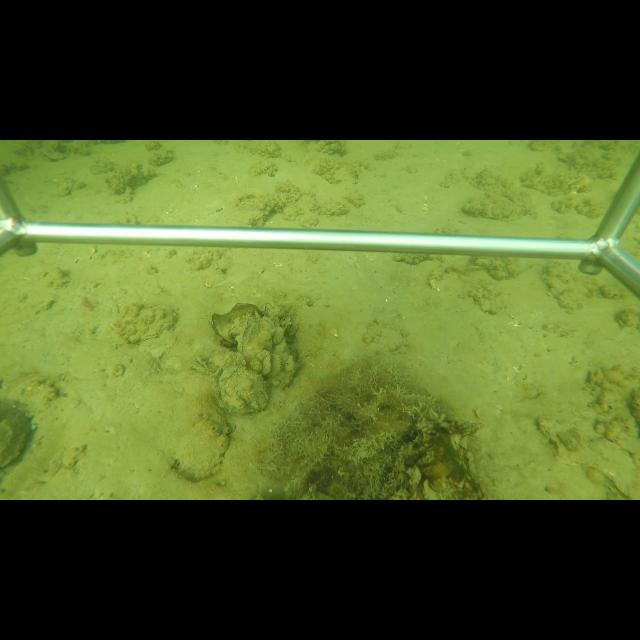Oyster-Closed: (217, 364, 271, 417), (121, 303, 180, 346), (240, 319, 272, 372), (461, 193, 517, 221)
